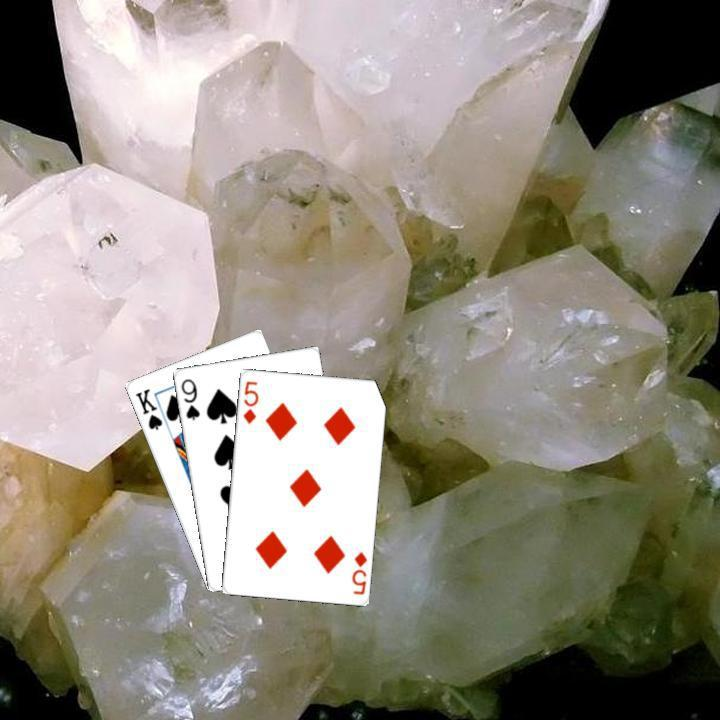5: (238, 376, 260, 425), (347, 547, 369, 596)
9: (176, 374, 201, 422)
K: (130, 384, 164, 432)
